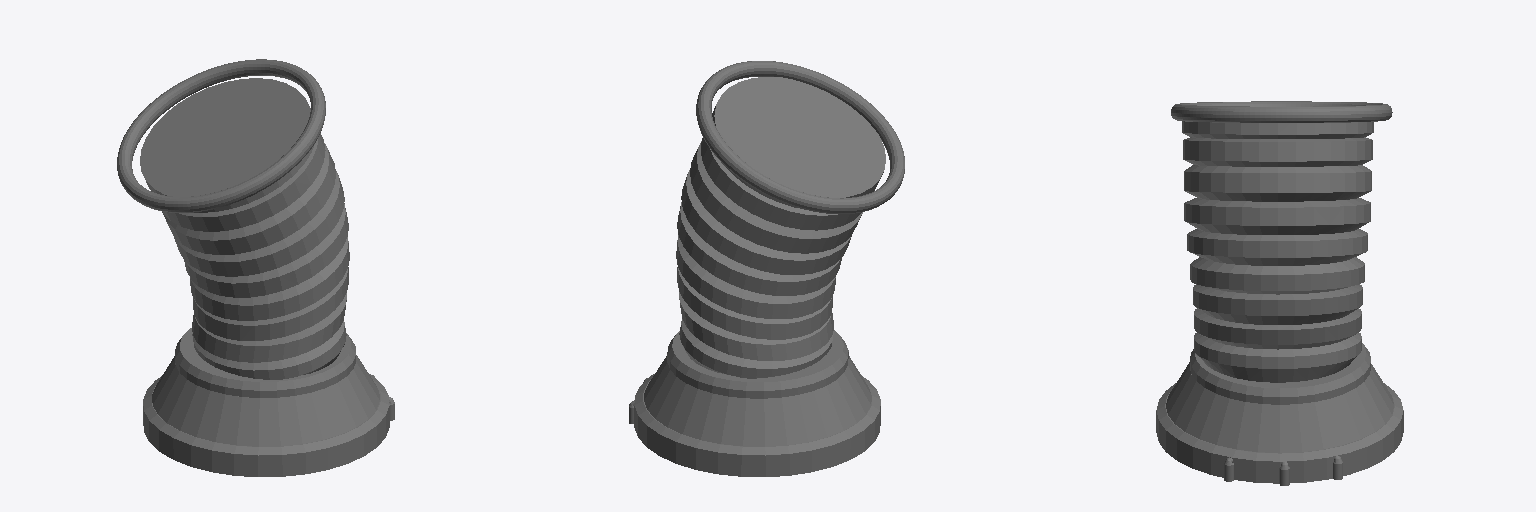
Rendered from PataTraseraDerGoddard.obj.
The picture shows the model from 3 angles: view 1: azimuth 30°, elevation 25°; view 2: azimuth 150°, elevation 25°; view 3: azimuth 270°, elevation 25°; orthographic projection.
Visible parts, largest first — view 1: DerechaTrasera; view 2: DerechaTrasera; view 3: DerechaTrasera.
Part boxes in pixels (x1,y1,x2,y2): DerechaTrasera: (117,59,394,476); DerechaTrasera: (629,61,904,476); DerechaTrasera: (1156,101,1403,485).
Bounding box in the file's own units: 1.18 × 1.58 × 1.03.